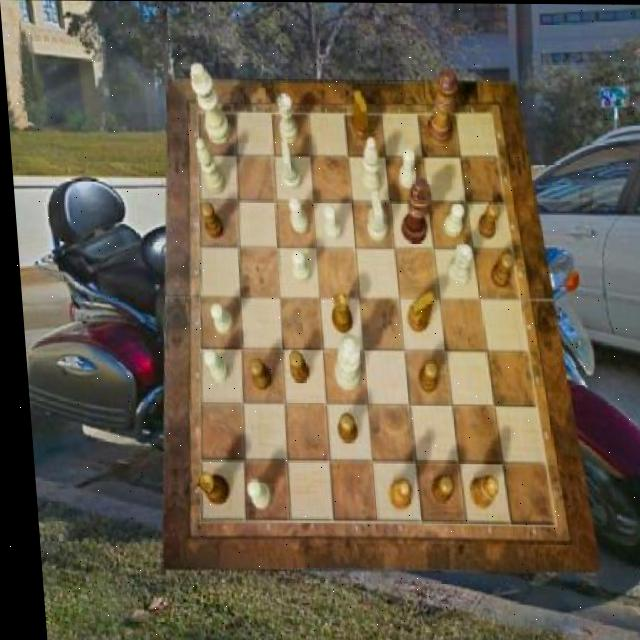bishop: (460, 473, 492, 508), (379, 479, 405, 511)
black-bishop: (394, 177, 431, 243)
black-king: (400, 293, 430, 333), (348, 89, 370, 141)
black-knight: (472, 201, 497, 239), (485, 252, 511, 287), (197, 201, 220, 239), (243, 358, 267, 391), (283, 349, 304, 383), (412, 361, 434, 393), (330, 412, 352, 443), (422, 476, 446, 504)
black-pawn: (422, 68, 461, 145)
black-queen: (187, 471, 222, 506), (325, 291, 349, 334)
black-rook: (193, 138, 224, 192), (355, 138, 379, 194)
white-bishop: (187, 64, 228, 146)
white-king: (275, 138, 299, 191), (361, 190, 385, 241)
white-knight: (197, 349, 224, 383), (204, 302, 229, 335), (440, 201, 463, 236), (396, 148, 416, 188), (239, 478, 264, 509), (319, 205, 339, 241), (286, 197, 306, 233), (288, 251, 307, 283)
white-pawn: (326, 333, 356, 390)
white-queen: (442, 242, 471, 287), (276, 92, 296, 143)
